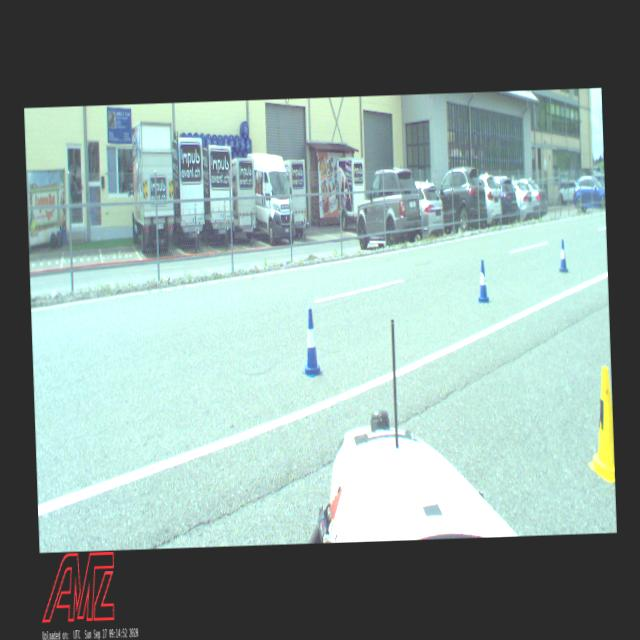blue_cone: (300, 308, 323, 378), (476, 260, 488, 302), (558, 239, 568, 271)
yellow_cone: (584, 366, 614, 482)
